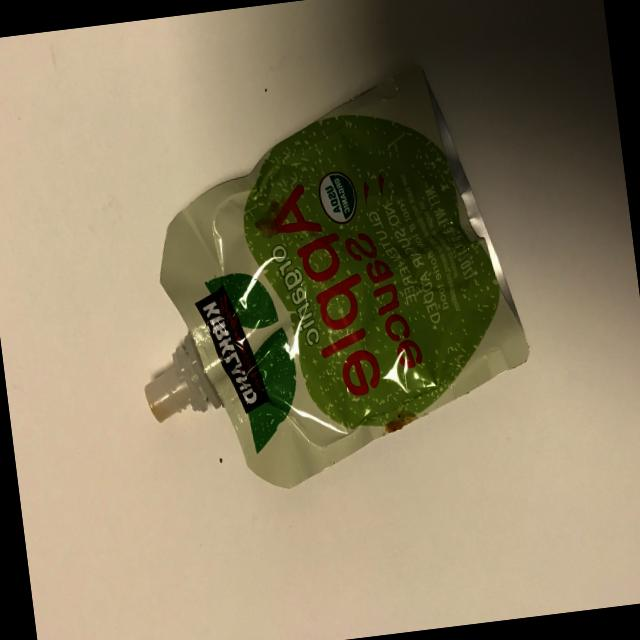Plastic: (96, 33, 550, 530)
